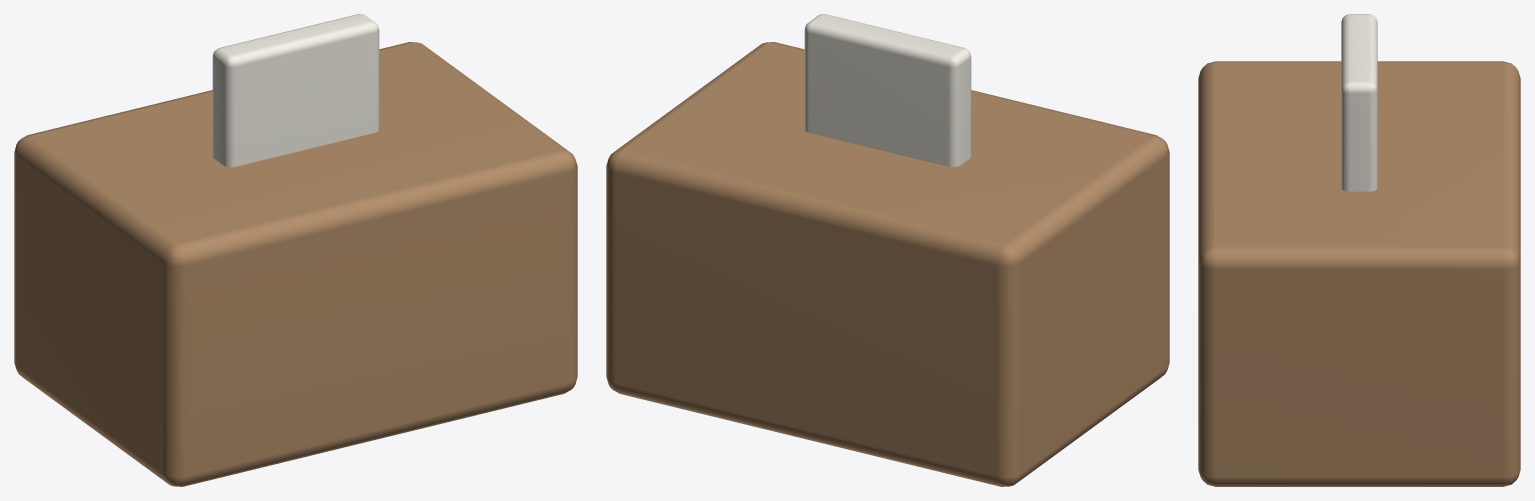
Rendered from atelier-tissue-box.glb.
3 views of the same model, side by side, from view 1: azimuth 30°, elevation 25°; view 2: azimuth 150°, elevation 25°; view 3: azimuth 270°, elevation 25° (orthographic).
Parts seen in each view (by area): view 1: legs.152, ceramic.085; view 2: legs.152, ceramic.085; view 3: legs.152, ceramic.085.
Part boxes in pixels (<box>): legs.152: <box>14,42,577,486</box>; ceramic.085: <box>212,14,379,167</box>; legs.152: <box>606,42,1169,486</box>; ceramic.085: <box>804,14,971,167</box>; legs.152: <box>1198,61,1520,486</box>; ceramic.085: <box>1341,14,1377,191</box>.
Bounding box in the file's own units: 0.32 × 0.26 × 0.22.
